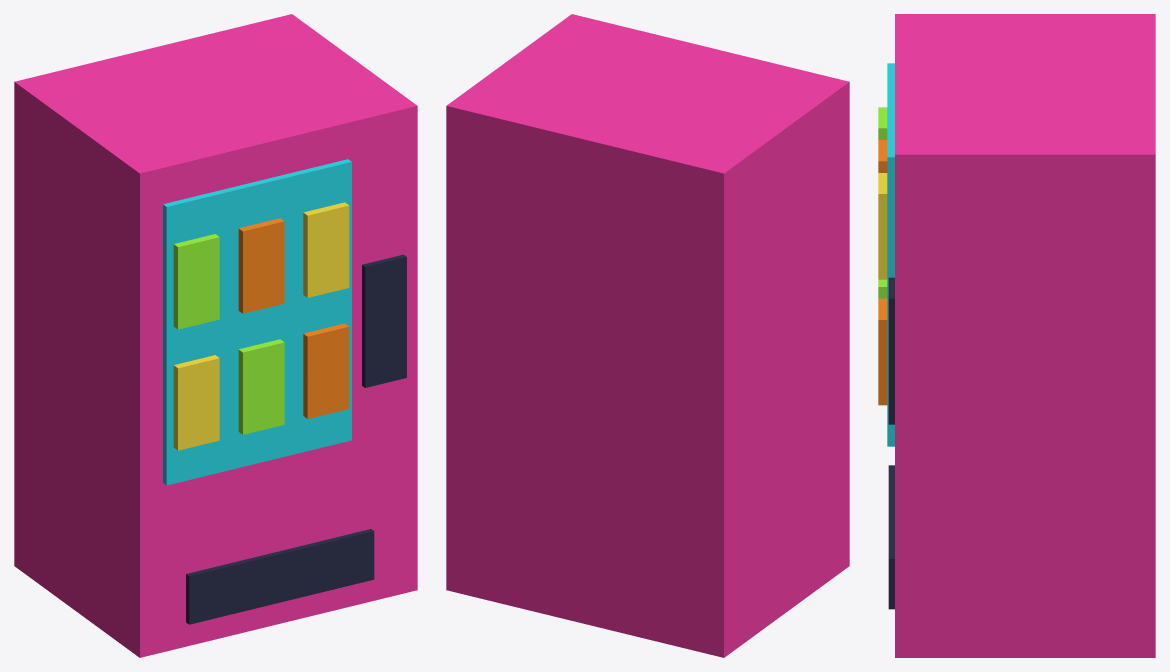
File: env_r8_vending_machine.glb
3 renders of one model, left to right at view 1: azimuth 30°, elevation 25°; view 2: azimuth 150°, elevation 25°; view 3: azimuth 270°, elevation 25°, orthographic. The views are drawn at different scales.
Visible parts, largest first — view 1: env_r8_vending_machine; view 2: env_r8_vending_machine; view 3: env_r8_vending_machine.
Part boxes in pixels (x1=…): env_r8_vending_machine: x1=14, y1=14, x2=417, y2=657; env_r8_vending_machine: x1=446, y1=14, x2=849, y2=657; env_r8_vending_machine: x1=878, y1=14, x2=1155, y2=657.
Bounding box in the file's own units: 1.2 × 2 × 1.
Materials: 1 (1 with a texture image).
